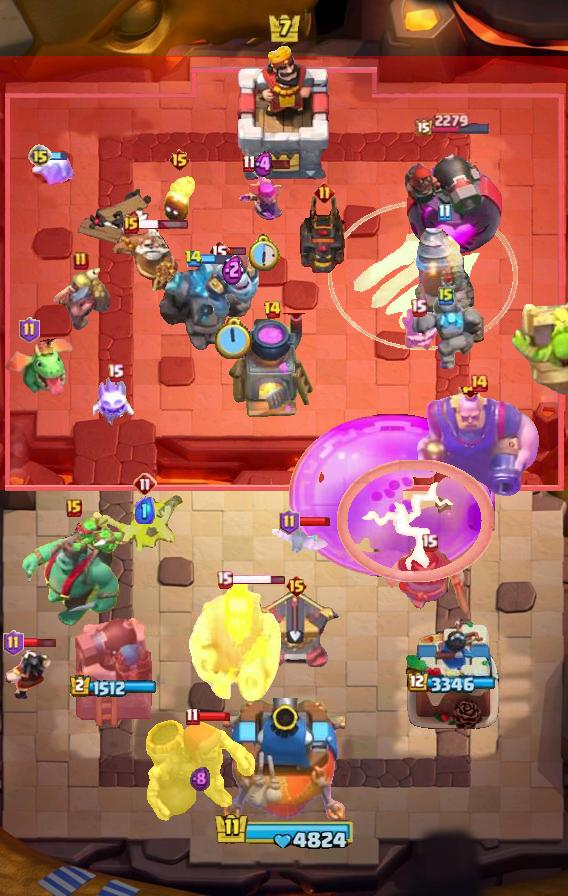archer-evolution: (297, 192, 351, 274)
bandit: (52, 266, 110, 334)
barbarian: (270, 526, 330, 556)
barbarian-evolution: (337, 460, 495, 582)
bomber: (161, 174, 197, 224)
cannoneer-tower: (159, 256, 255, 354)
clock: (210, 811, 358, 853)
electro-giant: (142, 717, 258, 827)
electro-spirit: (222, 253, 243, 285), (135, 496, 155, 523), (190, 766, 210, 792), (255, 151, 274, 178)
electro-wizard: (0, 335, 78, 397)
elixir: (213, 317, 252, 362), (246, 234, 280, 272)
elixir-collector: (109, 224, 179, 298)
elixir-golem-small: (202, 250, 262, 320)
emote: (230, 573, 285, 586), (137, 218, 189, 230), (201, 251, 236, 264), (23, 636, 58, 649), (255, 158, 292, 170), (297, 516, 331, 527), (197, 710, 231, 721), (50, 150, 68, 162), (228, 246, 248, 256)
evolution-symbol: (236, 168, 290, 226)
giant-skeleton: (188, 577, 284, 705)
hunter: (227, 313, 317, 421)
ice-wizard: (328, 202, 518, 351)
king-tower: (223, 698, 345, 826), (230, 43, 338, 181)
knight-evolution: (289, 414, 495, 577)
lava-hound: (21, 510, 127, 628)
lava-pup: (250, 588, 342, 670)
lightning: (415, 387, 543, 501)
lumberjack: (2, 648, 54, 702)
magic-archer: (414, 227, 474, 319)
mirror: (93, 372, 137, 426), (30, 153, 80, 191)
poison: (101, 490, 189, 564)
queen-tower: (404, 617, 502, 731)
royal-hog: (386, 543, 472, 617)
selected: (408, 672, 498, 696), (70, 674, 158, 698), (414, 112, 492, 136)
spear-goblin: (396, 306, 440, 354)
text: (28, 144, 52, 168), (133, 472, 157, 496), (168, 148, 191, 172), (285, 574, 308, 598), (20, 317, 41, 343), (279, 509, 300, 535), (4, 630, 25, 656), (208, 239, 230, 263), (314, 182, 335, 203), (469, 373, 489, 393), (262, 300, 281, 320), (184, 248, 203, 267), (215, 570, 233, 589), (107, 363, 124, 382), (421, 533, 438, 552), (73, 251, 89, 271), (438, 286, 454, 306), (409, 299, 426, 317), (123, 216, 139, 234), (66, 499, 82, 517), (243, 155, 257, 174), (437, 203, 451, 221), (185, 707, 199, 725)
tower-bar: (403, 138, 503, 256), (71, 611, 157, 731)
valkyrie-evolution: (408, 297, 484, 375)
x-bow: (509, 295, 567, 397)
